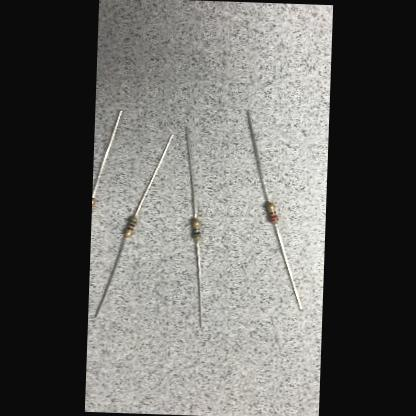resistor: (264, 201, 278, 222), (123, 216, 136, 237), (190, 218, 200, 240)
wire: (134, 132, 172, 216), (270, 223, 304, 308), (243, 110, 273, 201), (94, 236, 126, 317), (92, 108, 120, 197), (181, 126, 200, 217), (192, 240, 204, 326)
